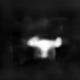plane: (23, 33, 64, 61)
